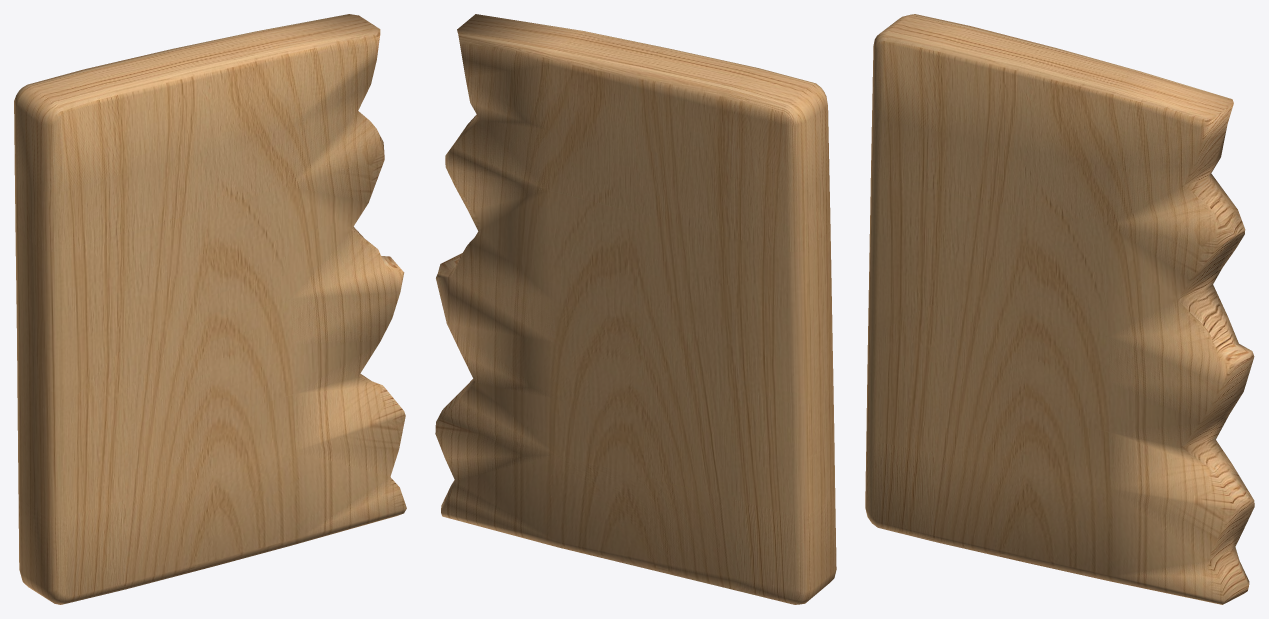
Rendered from fragment-left.glb.
The picture shows the model from 3 angles, left to right: view 1: azimuth 30°, elevation 25°; view 2: azimuth 150°, elevation 25°; view 3: azimuth 330°, elevation 25°; orthographic projection. The views are drawn at different scales.
Visible parts, largest first — view 1: tripo_node_edb14093-5910-45d4-90d6-11bf5587c745; view 2: tripo_node_edb14093-5910-45d4-90d6-11bf5587c745; view 3: tripo_node_edb14093-5910-45d4-90d6-11bf5587c745.
Boxes of the visible parts, bbox=[...] form: tripo_node_edb14093-5910-45d4-90d6-11bf5587c745: bbox=[14, 14, 406, 604]; tripo_node_edb14093-5910-45d4-90d6-11bf5587c745: bbox=[435, 14, 836, 604]; tripo_node_edb14093-5910-45d4-90d6-11bf5587c745: bbox=[865, 14, 1254, 604].
Bounding box in the file's own units: 0.7749 × 0.9995 × 0.1558.
1 material, 1 textured.
